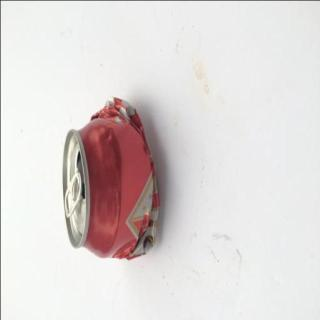Anorganik: (54, 89, 164, 274)
